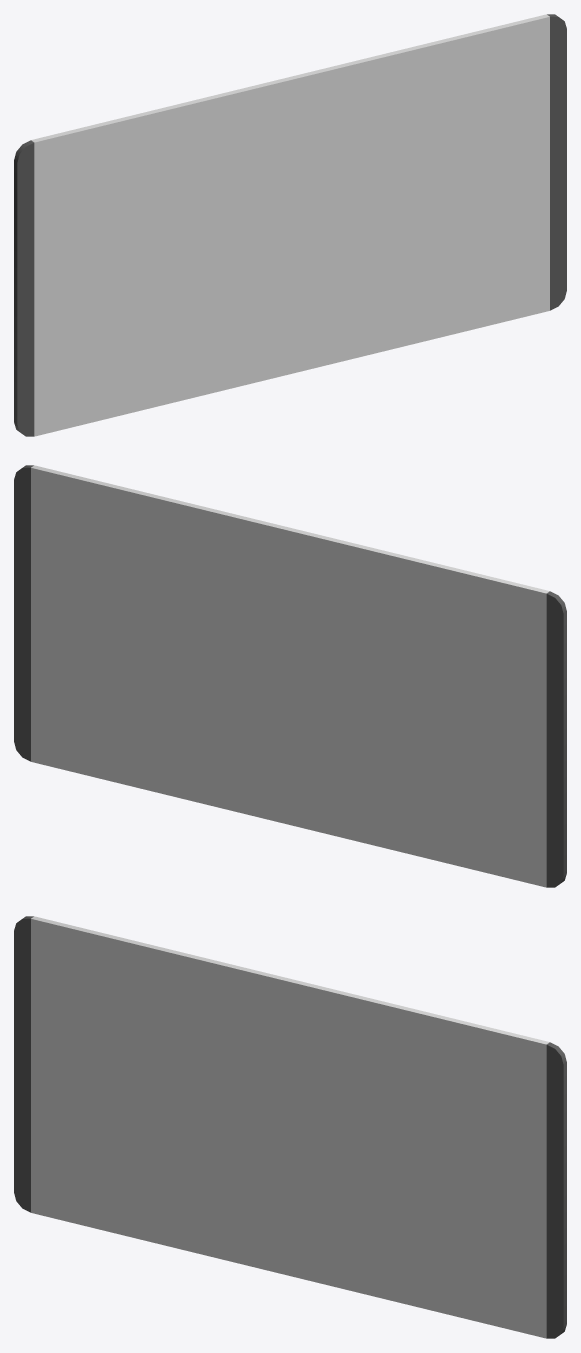
The model's file is details_bg.glb.
3 views of the same model, one above another, from view 1: azimuth 30°, elevation 25°; view 2: azimuth 150°, elevation 25°; view 3: azimuth 330°, elevation 25° (orthographic).
Parts seen in each view (by area): view 1: details_bg; view 2: details_bg; view 3: details_bg.
Boxes of the visible parts, x1=… form: details_bg: x1=14, y1=14, x2=566, y2=436; details_bg: x1=14, y1=465, x2=566, y2=887; details_bg: x1=14, y1=916, x2=566, y2=1338.
Bounding box in the file's own units: 1.76 × 0.8973 × 0.0187.
Materials: 1 (1 with a texture image).
